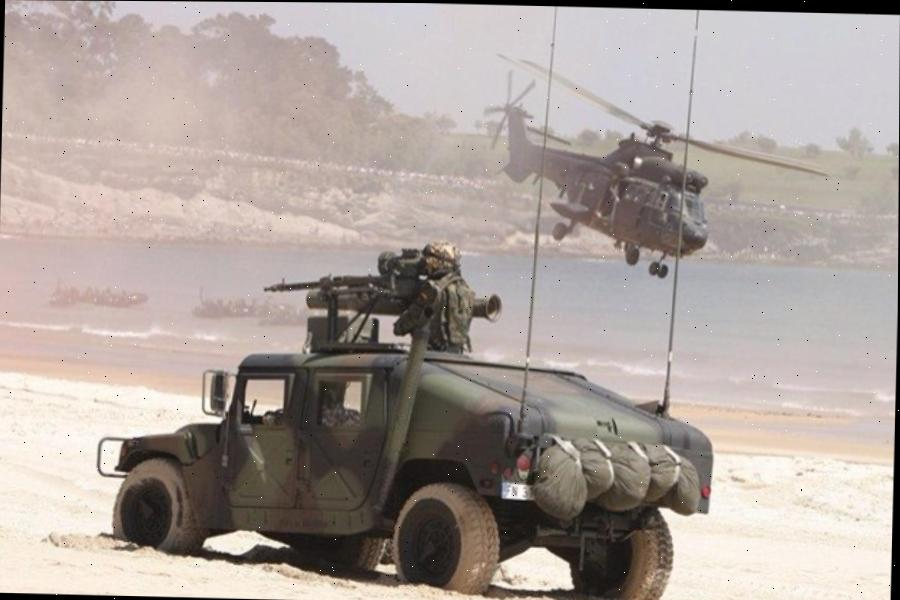armored_car: (95, 239, 719, 600)
